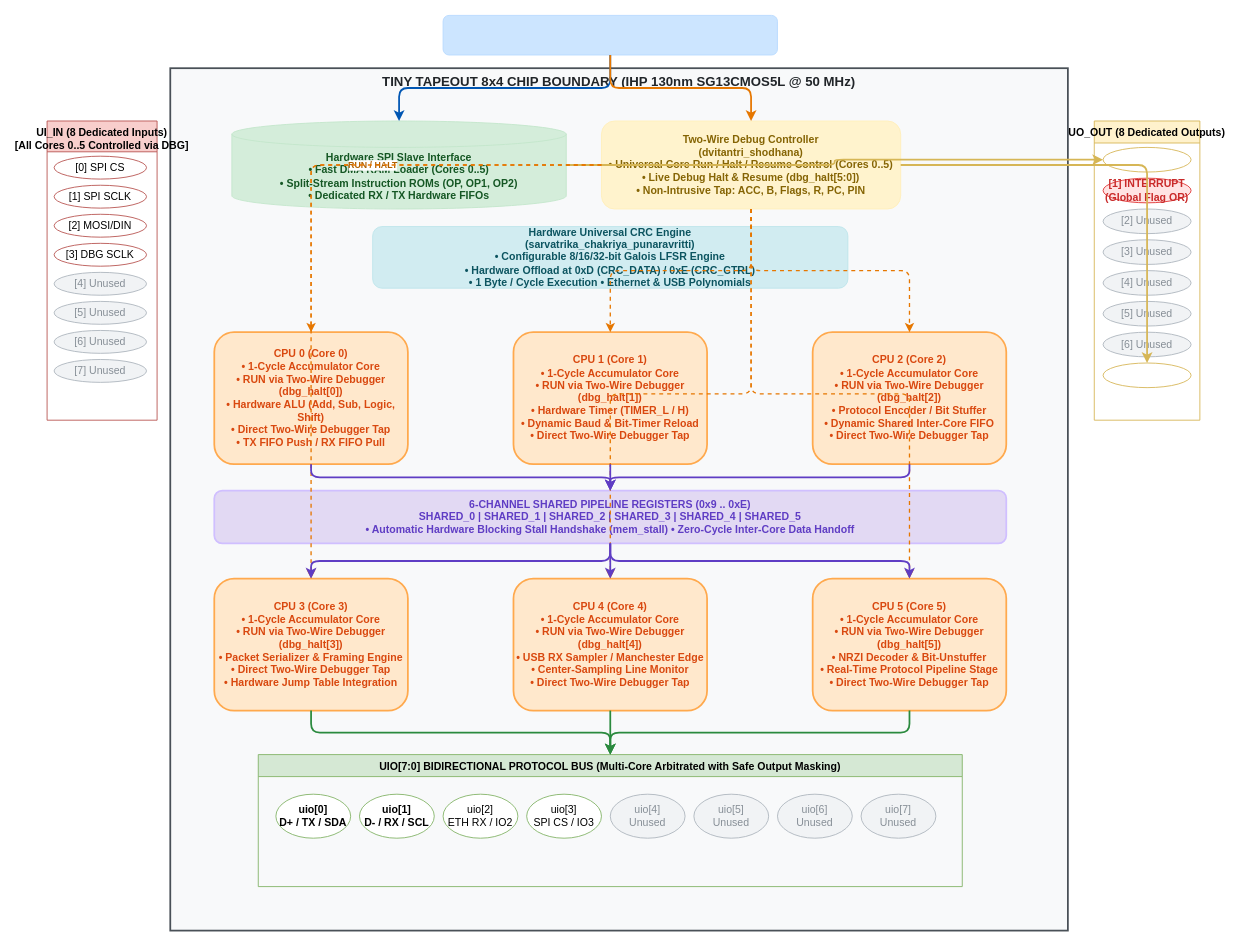
This 1241x947 diagram has some shape labels left out. Each missing label, with the centre of its shape:
"[0] SPI MISO" belongs at (1146,159).
"[7] DBG_DOUT" belongs at (1146,375).
"External RP2040 Host (SPI Master & Two-Wire Debug Master)" belongs at (609,35).
